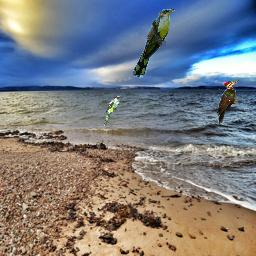Cuckoo: (133, 9, 175, 78), (104, 96, 123, 126)
Woodpecker: (216, 79, 240, 125)
